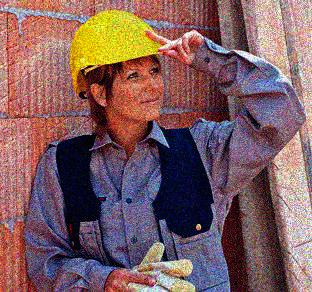helmet: (67, 7, 166, 120)
